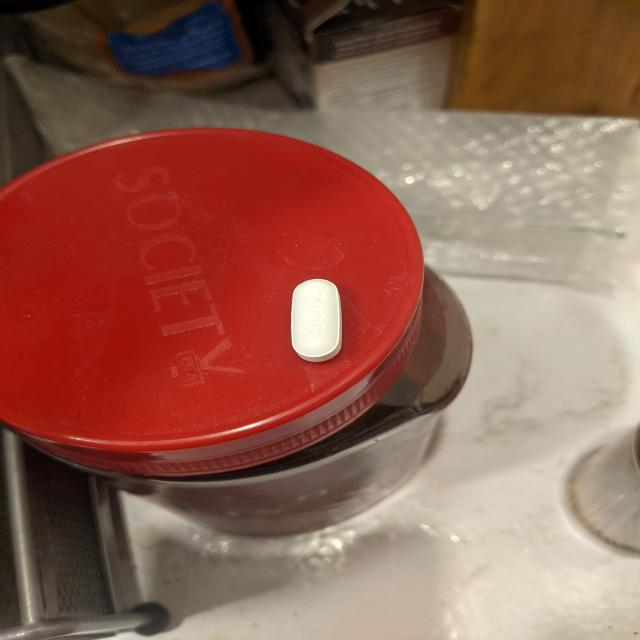non-organic waste: (289, 278, 344, 363)
